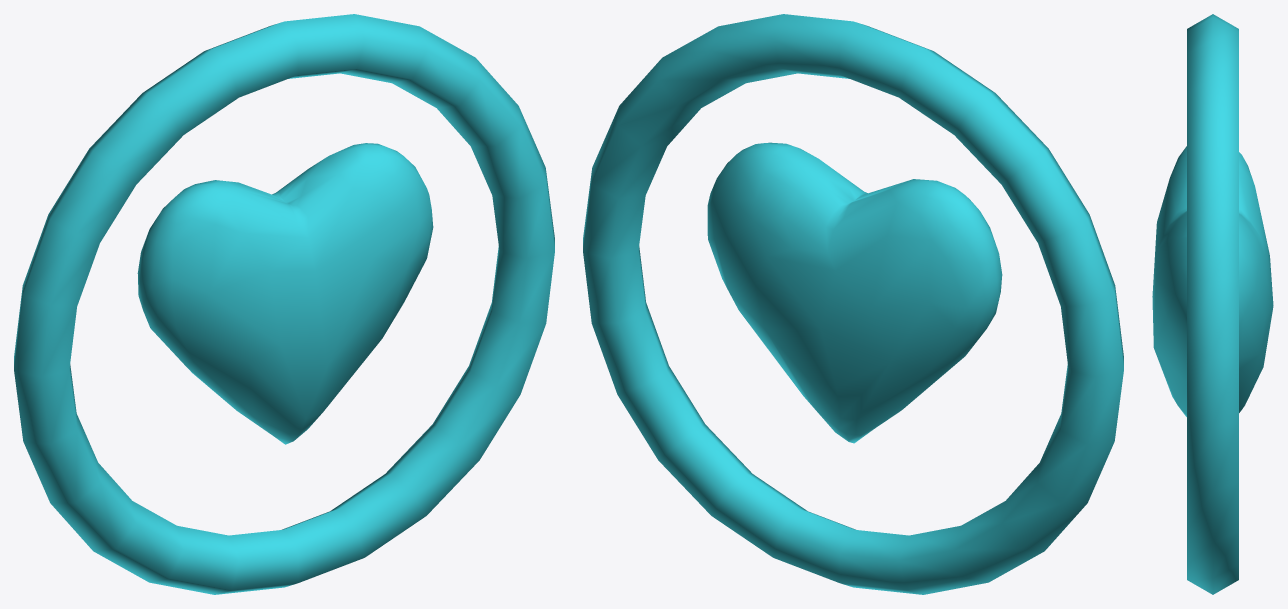
The model's file is health.FBX.
3 views of the same model, side by side, from view 1: azimuth 30°, elevation 25°; view 2: azimuth 150°, elevation 25°; view 3: azimuth 270°, elevation 25° (orthographic). The views are drawn at different scales.
Parts seen in each view (by area): view 1: cerc, bonus; view 2: cerc, bonus; view 3: cerc, bonus.
Part boxes in pixels (x1=…): cerc: x1=14, y1=14, x2=554, y2=594; bonus: x1=137, y1=143, x2=433, y2=444; cerc: x1=583, y1=14, x2=1123, y2=594; bonus: x1=707, y1=142, x2=1002, y2=443; cerc: x1=1187, y1=14, x2=1238, y2=594; bonus: x1=1152, y1=146, x2=1273, y2=416.
Size of the model in its own units: 137 by 137 by 28.39.
